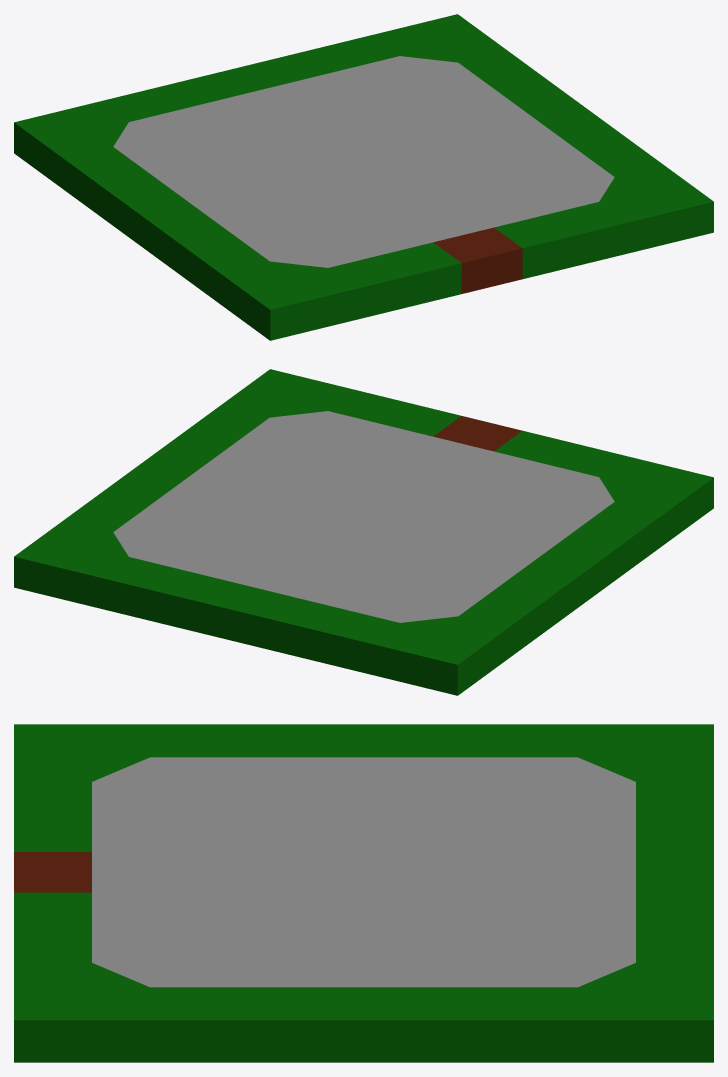
The model's file is TileSetCastleStructer.FBX.
3 renders of one model, top to bottom at view 1: azimuth 30°, elevation 25°; view 2: azimuth 150°, elevation 25°; view 3: azimuth 270°, elevation 25°, orthographic. The views are drawn at different scales.
Visible parts, largest first — view 1: Box1039, Box1021, Box1022, Box1035, Box1037, Box1019, Box1034, Box1036, Box1038; view 2: Box1035, Box1036, Box1038, Box1039, Box1037, Box1019, Box1021, Box1022, Box1034; view 3: Box1034, Box1021, Box1038, Box1019, Box1022, Box1035, Box1036, Box1037, Box1039.
Boxes of the visible parts, x1=… form: Box1039: x1=184, y1=211, x2=417, y2=340; Box1021: x1=481, y1=139, x2=713, y2=268; Box1022: x1=333, y1=175, x2=565, y2=304; Box1035: x1=14, y1=86, x2=246, y2=215; Box1037: x1=99, y1=149, x2=332, y2=277; Box1019: x1=247, y1=113, x2=480, y2=210; Box1034: x1=395, y1=76, x2=627, y2=174; Box1036: x1=162, y1=50, x2=394, y2=148; Box1038: x1=310, y1=14, x2=542, y2=112; Box1035: x1=310, y1=566, x2=543, y2=695; Box1036: x1=162, y1=530, x2=394, y2=659; Box1038: x1=14, y1=494, x2=246, y2=623; Box1039: x1=481, y1=441, x2=713, y2=570; Box1037: x1=395, y1=504, x2=628, y2=632; Box1019: x1=247, y1=468, x2=480, y2=565; Box1021: x1=185, y1=369, x2=417, y2=467; Box1022: x1=333, y1=405, x2=565, y2=503; Box1034: x1=100, y1=431, x2=332, y2=529; Box1034: x1=247, y1=921, x2=480, y2=1062; Box1021: x1=14, y1=921, x2=247, y2=1062; Box1038: x1=480, y1=921, x2=713, y2=1062; Box1019: x1=247, y1=823, x2=480, y2=921; Box1022: x1=14, y1=823, x2=247, y2=921; Box1035: x1=480, y1=724, x2=713, y2=822; Box1036: x1=480, y1=823, x2=713, y2=921; Box1037: x1=247, y1=724, x2=480, y2=822; Box1039: x1=14, y1=724, x2=247, y2=822.
Size of the model in its own units: 3000 by 200 by 3000.
